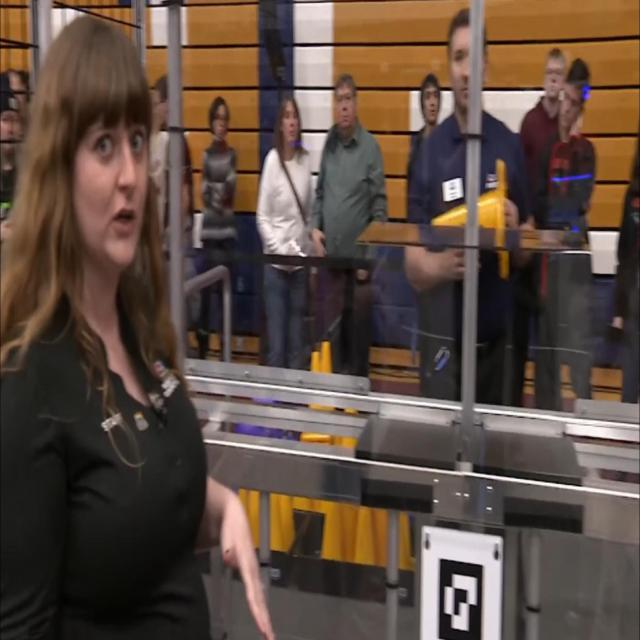frc_cone: (429, 170, 510, 286), (301, 345, 329, 446), (316, 334, 339, 440), (318, 486, 343, 558), (354, 501, 377, 566), (277, 476, 297, 550), (369, 493, 388, 562), (387, 515, 411, 569), (335, 407, 360, 456), (246, 490, 265, 552), (341, 491, 356, 555), (266, 491, 279, 553), (294, 487, 307, 521), (239, 479, 246, 506)
frc_cube: (235, 415, 258, 442), (264, 426, 285, 444)
